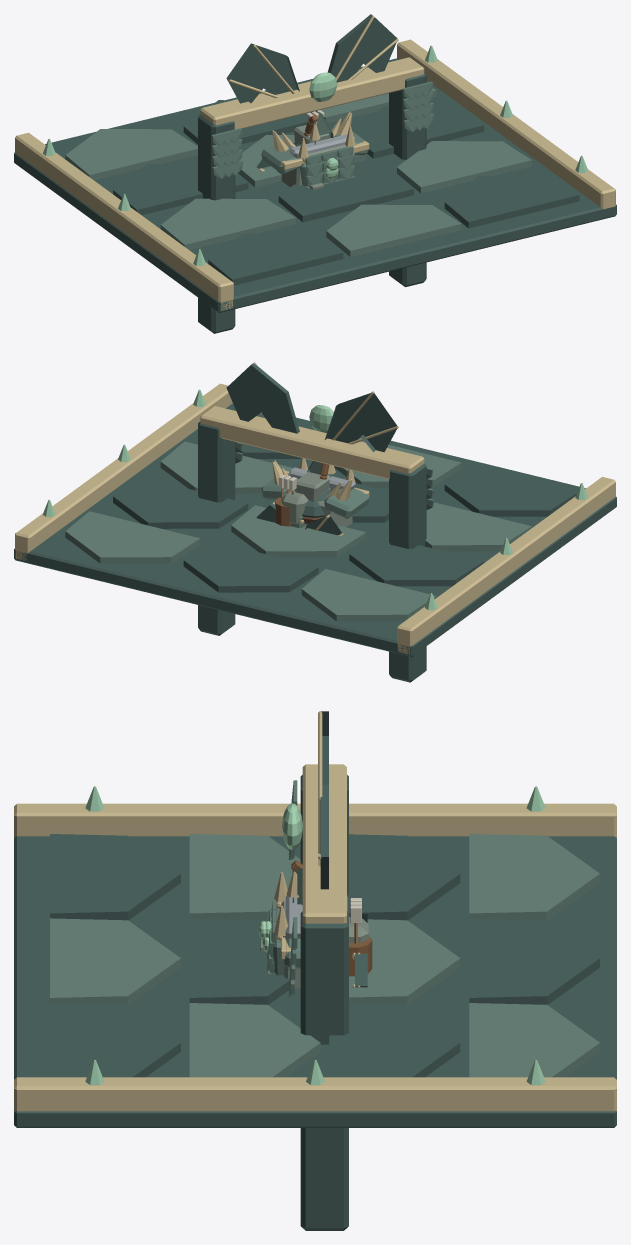
Rendered from KingdomsPremiumDragon.glb.
3 renders of one model, top to bottom at view 1: azimuth 30°, elevation 25°; view 2: azimuth 150°, elevation 25°; view 3: azimuth 270°, elevation 25°, orthographic. The views are drawn at different scales.
Visible parts, largest first — view 1: Dragon_RoadTile, Dragon_Gateway, Dragon_Archer_Torso, Dragon_Defender_LeftArm, Dragon_Defender_Torso; view 2: Dragon_RoadTile, Dragon_Gateway, Dragon_Defender_Torso, Dragon_Archer_Torso, Dragon_Defender_LeftArm, Dragon_Defender_LeftLeg, Dragon_Defender_Head; view 3: Dragon_RoadTile, Dragon_Gateway, Dragon_Archer_Torso, Dragon_Defender_LeftArm, Dragon_Defender_Torso.
Boxes of the visible parts, left/top/right/bottom form: Dragon_RoadTile: left=14, top=39, right=616, bottom=312; Dragon_Gateway: left=198, top=14, right=433, bottom=333; Dragon_Archer_Torso: left=258, top=110, right=369, bottom=189; Dragon_Defender_LeftArm: left=289, top=126, right=355, bottom=186; Dragon_Defender_Torso: left=256, top=111, right=366, bottom=188; Dragon_RoadTile: left=14, top=383, right=616, bottom=656; Dragon_Gateway: left=198, top=362, right=433, bottom=682; Dragon_Defender_Torso: left=256, top=461, right=367, bottom=536; Dragon_Archer_Torso: left=273, top=460, right=369, bottom=535; Dragon_Defender_LeftArm: left=281, top=458, right=355, bottom=527; Dragon_Defender_LeftLeg: left=294, top=472, right=329, bottom=501; Dragon_Defender_Head: left=282, top=468, right=341, bottom=524; Dragon_RoadTile: left=14, top=786, right=616, bottom=1127; Dragon_Gateway: left=282, top=711, right=348, bottom=1230; Dragon_Archer_Torso: left=258, top=898, right=372, bottom=987; Dragon_Defender_LeftArm: left=262, top=872, right=368, bottom=973; Dragon_Defender_Torso: left=266, top=895, right=367, bottom=988.
Bounding box in the file's own units: 4.6 × 3.02 × 4.1.
